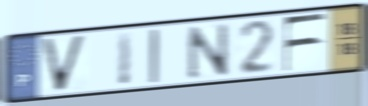2: (236, 18, 276, 77)
F: (282, 11, 328, 74)
I: (115, 29, 135, 89), (146, 26, 162, 86)
N: (184, 20, 231, 82)
V: (38, 32, 89, 95)
